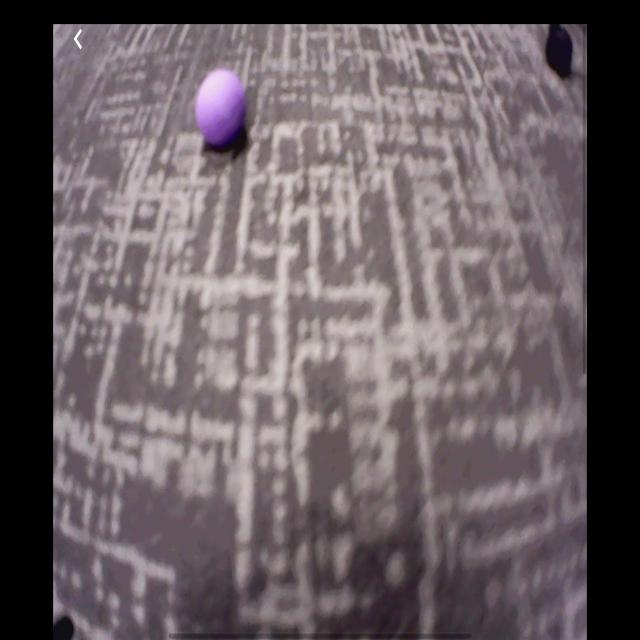ball: (199, 69, 245, 146)
